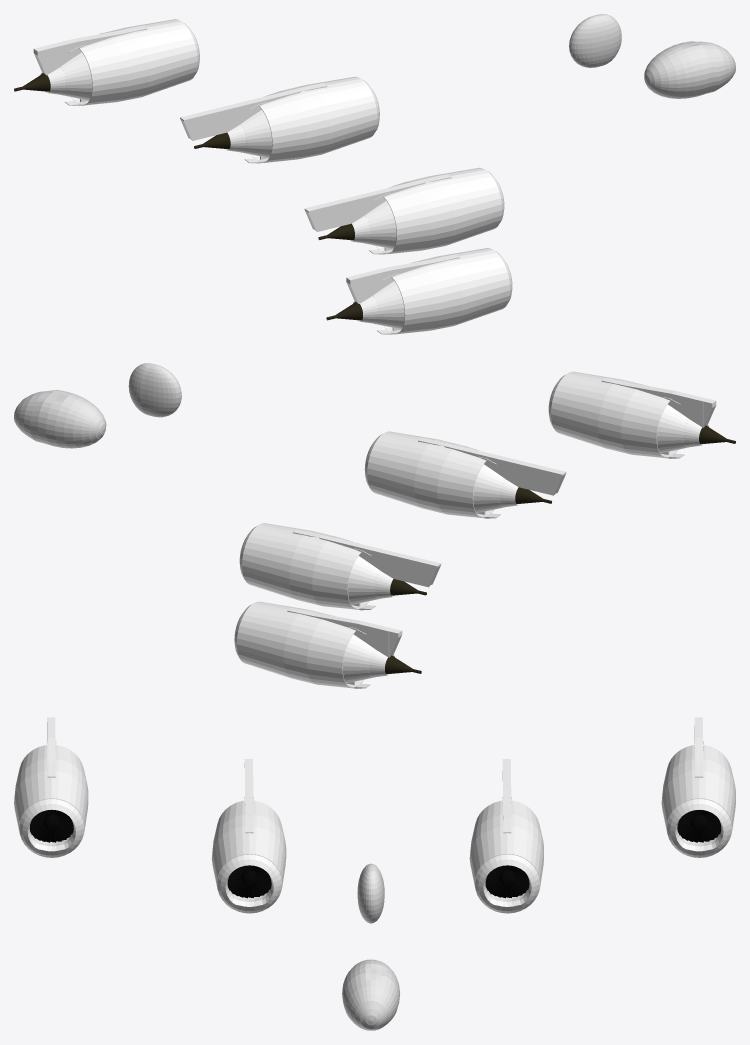
3 renders of one model, top to bottom at view 1: azimuth 30°, elevation 25°; view 2: azimuth 150°, elevation 25°; view 3: azimuth 270°, elevation 25°, orthographic. The views are drawn at different scales.
Parts seen in each view (by area): view 1: 立方体.001, 立方体, 立方体.003, 立方体.002, 球, 球.001, 円柱.008, 円柱.011, 円柱.002, 円柱.004; view 2: 立方体, 立方体.001, 立方体.003, 立方体.002, 球, 球.001, 円柱.008, 円柱.011, 円柱.004, 円柱.002; view 3: 立方体, 立方体.001, 立方体.003, 立方体.002, 球, 円柱.001, 円柱.006, 円柱.003, 円柱.010, 球.001, 円柱.009, 円柱.007 (+2 smaller).
Boxes of the visible parts, x1=… form: 立方体.001: x1=304, y1=167, x2=501, y2=254; 立方体: x1=180, y1=76, x2=376, y2=163; 立方体.003: x1=346, y1=248, x2=509, y2=334; 立方体.002: x1=33, y1=19, x2=196, y2=105; 球: x1=644, y1=41, x2=735, y2=98; 球.001: x1=569, y1=14, x2=621, y2=67; 円柱.008: x1=14, y1=52, x2=92, y2=100; 円柱.011: x1=326, y1=281, x2=404, y2=329; 円柱.002: x1=318, y1=201, x2=396, y2=249; 円柱.004: x1=194, y1=109, x2=272, y2=157; 立方体: x1=242, y1=523, x2=441, y2=610; 立方体.001: x1=367, y1=431, x2=566, y2=518; 立方体.003: x1=551, y1=371, x2=716, y2=458; 立方体.002: x1=237, y1=601, x2=402, y2=688; 球: x1=14, y1=390, x2=106, y2=448; 球.001: x1=128, y1=363, x2=181, y2=417; 円柱.008: x1=343, y1=634, x2=421, y2=683; 円柱.011: x1=657, y1=404, x2=735, y2=453; 円柱.004: x1=348, y1=556, x2=426, y2=604; 円柱.002: x1=473, y1=464, x2=551, y2=513; 立方体: x1=469, y1=758, x2=543, y2=902; 立方体.001: x1=211, y1=758, x2=286, y2=901; 立方体.003: x1=14, y1=717, x2=88, y2=847; 立方体.002: x1=661, y1=717, x2=735, y2=847; 球: x1=342, y1=959, x2=400, y2=1030; 円柱.001: x1=217, y1=854, x2=281, y2=913; 円柱.006: x1=667, y1=798, x2=731, y2=857; 円柱.003: x1=475, y1=854, x2=539, y2=913; 円柱.010: x1=19, y1=798, x2=84, y2=857; 球.001: x1=357, y1=863, x2=384, y2=923; 円柱.009: x1=677, y1=809, x2=721, y2=842; 円柱.007: x1=485, y1=865, x2=529, y2=898.
Size of the model in its own units: 23.09 by 5.16 by 24.84.
